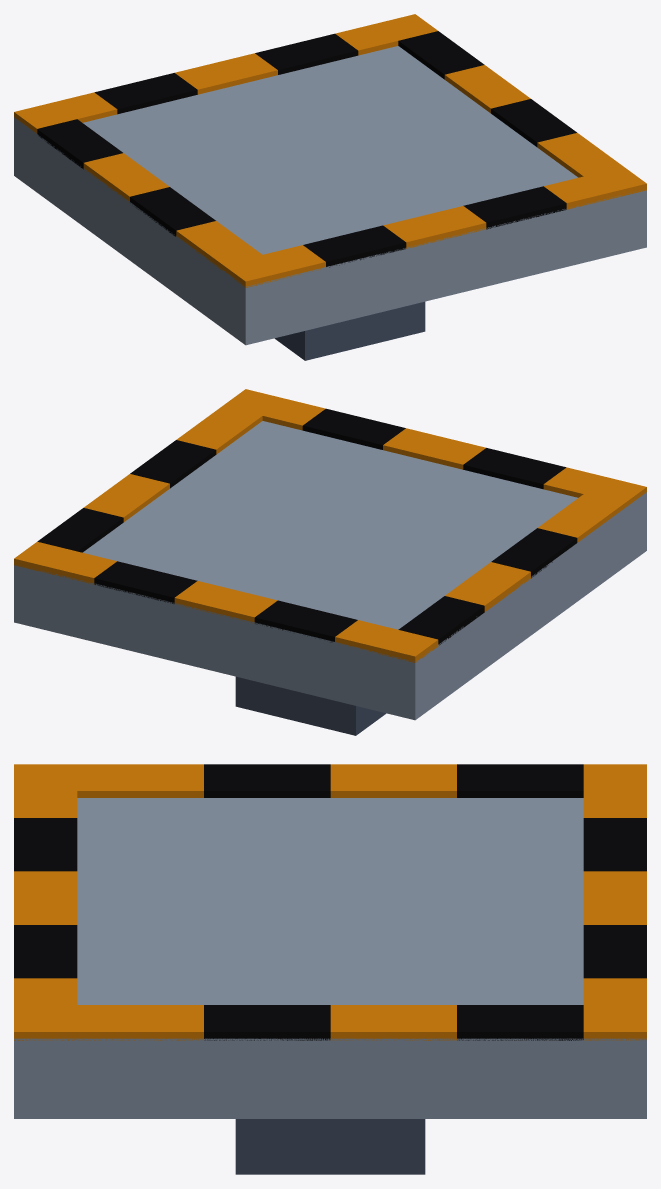
Rendered from SM_Parkour_Pad_Low.glb.
3 renders of one model, top to bottom at view 1: azimuth 30°, elevation 25°; view 2: azimuth 150°, elevation 25°; view 3: azimuth 270°, elevation 25°, orthographic. The views are drawn at different scales.
Visible parts, largest first — view 1: SM_Parkour_Pad_Low-col; view 2: SM_Parkour_Pad_Low-col; view 3: SM_Parkour_Pad_Low-col.
Part boxes in pixels (<box>): SM_Parkour_Pad_Low-col: <box>14,14,646,360</box>; SM_Parkour_Pad_Low-col: <box>14,389,646,735</box>; SM_Parkour_Pad_Low-col: <box>14,764,646,1174</box>.
Size of the model in its own units: 1 by 0.412 by 1.
